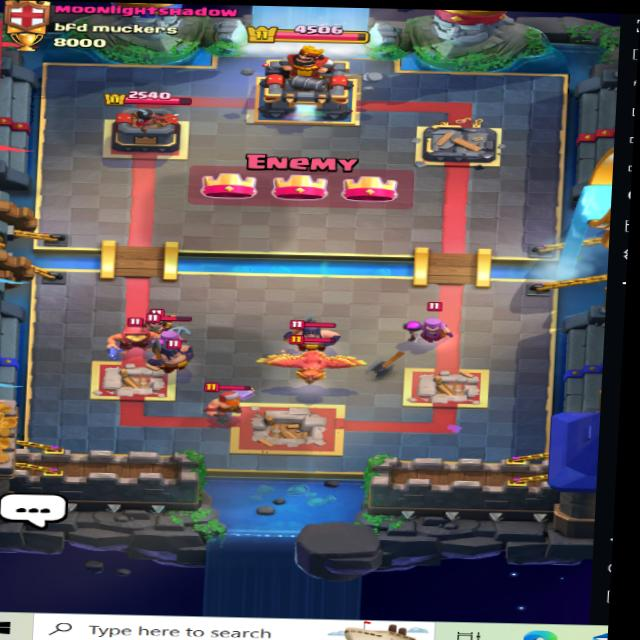executioner: (146, 338, 207, 378), (280, 318, 350, 351)
fisherman: (97, 313, 178, 362)
little-prince: (128, 306, 179, 335)
lumberjack: (193, 376, 265, 418)
mother-witch: (409, 298, 469, 353), (130, 317, 193, 359)
phoenix: (256, 331, 356, 386)
